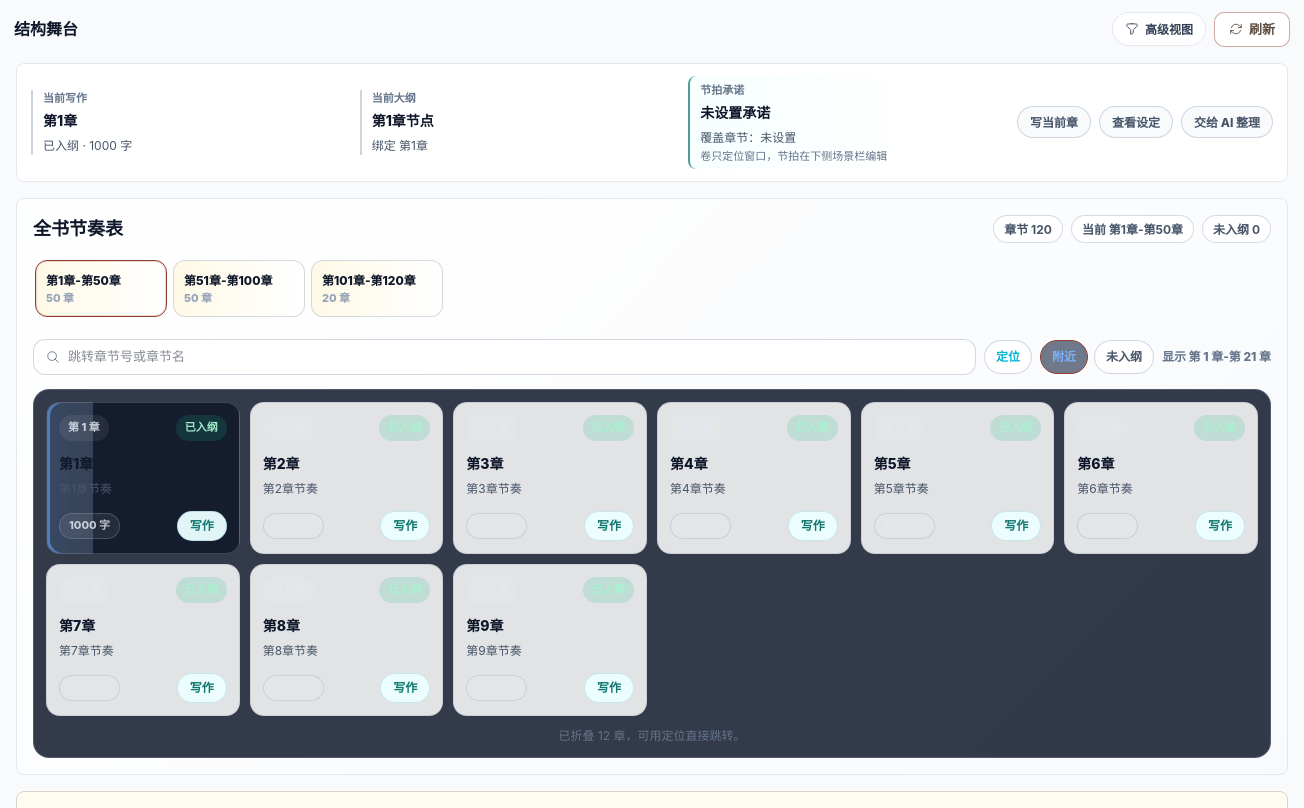
StructureStageView › 定位章节号时应切换到命中区段并选中目标行
Type "115" into the field with placeholder "跳转章节号或章节名" at (515, 357), box [68,346,963,367]
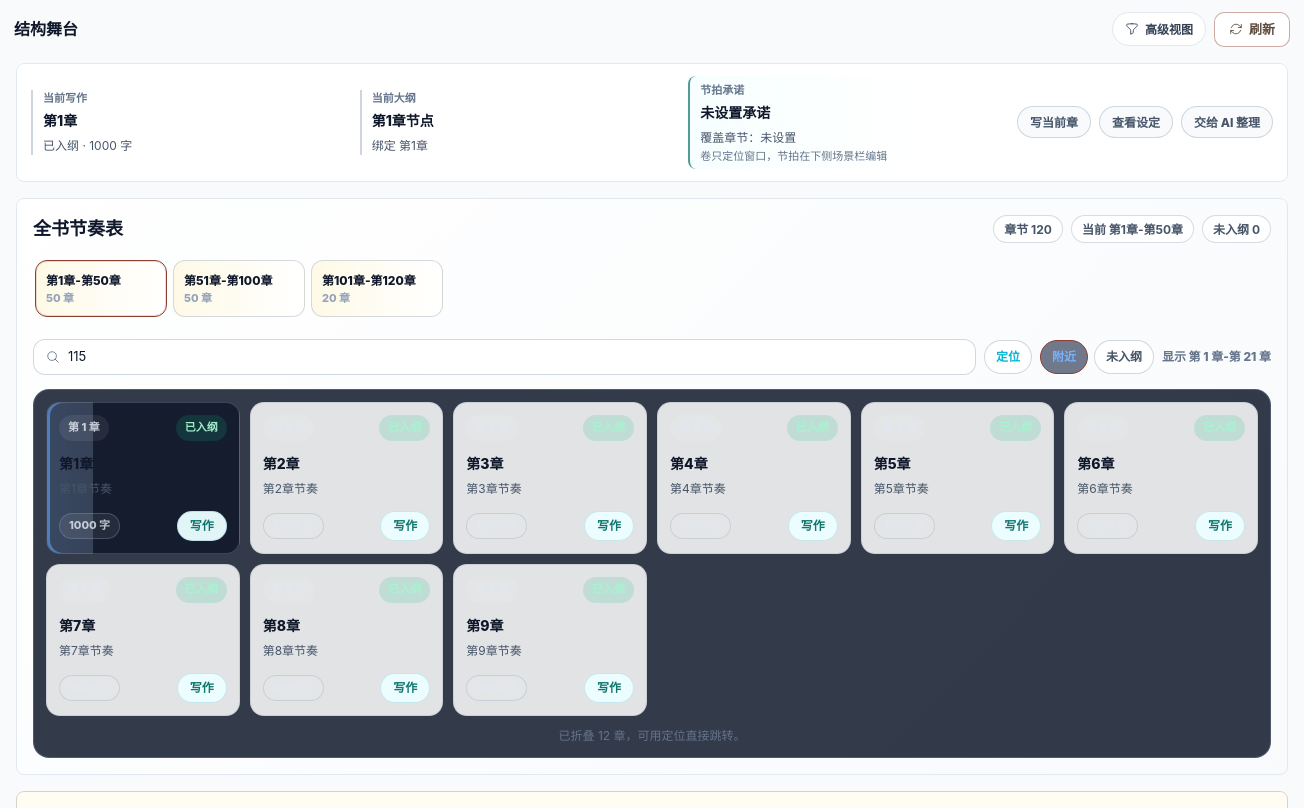
Click the button with class "structure-stage-view__locator-action" at (1008, 357), box [984,340,1032,374]
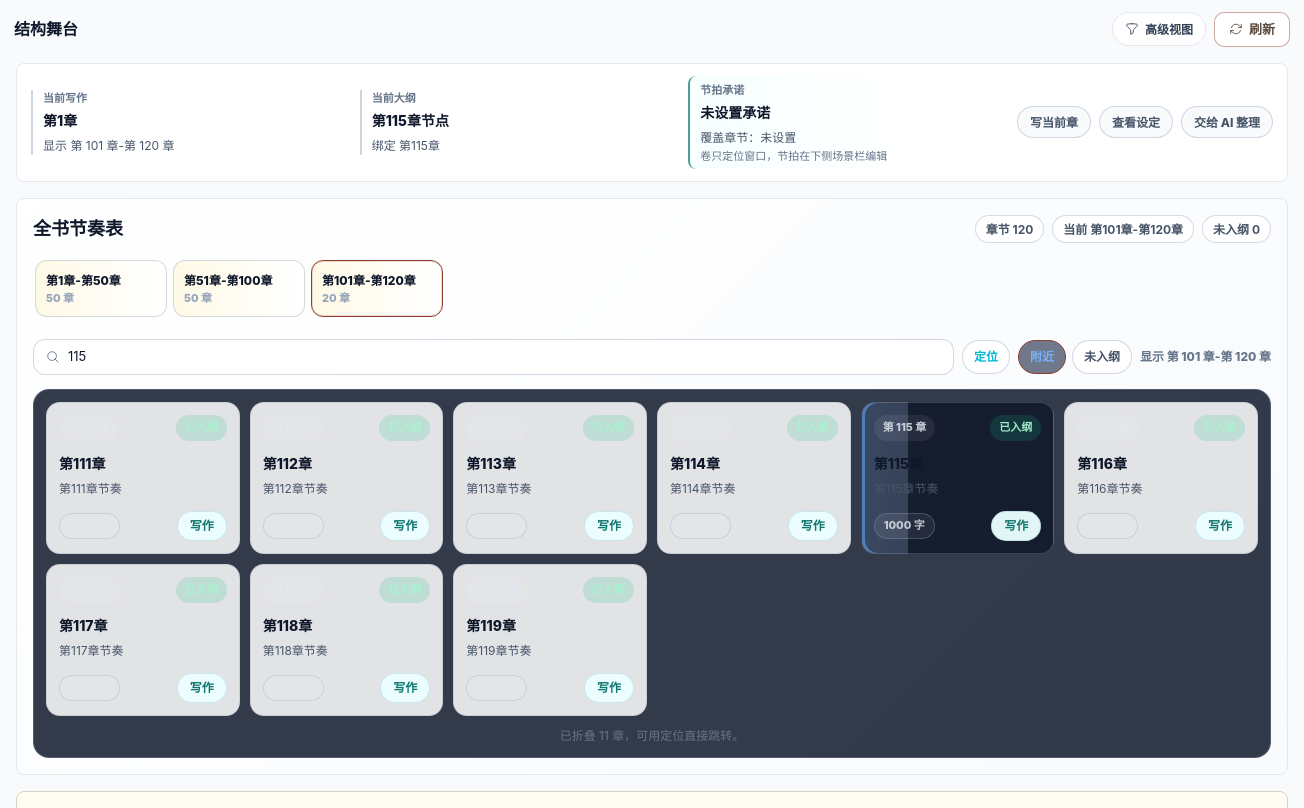
expect the text "第101章-第120章" is shown: met, box [1063,222,1183,237]
expect the element with class "is-selected" shows "第115章": met, box [874,455,923,472]
